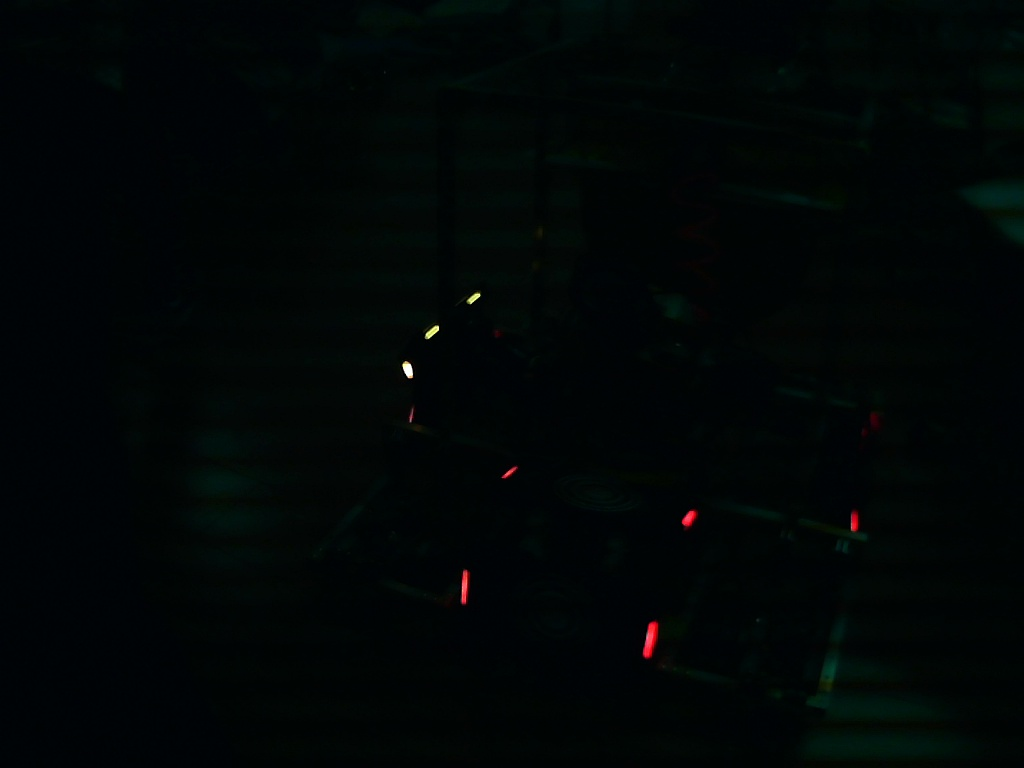lamp: (640, 619, 663, 660), (459, 567, 470, 606)
